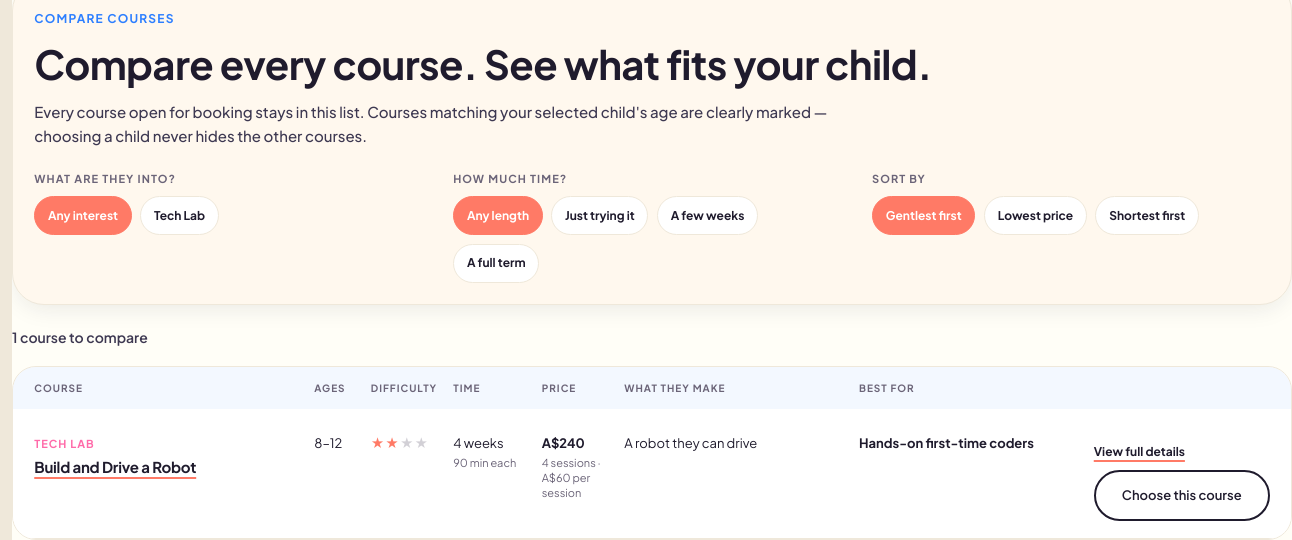
Test case: CoursesPage pay-now CTA › keeps the reserve CTA and fetches classes only when times are opened
(page scrolled)
Click the button "Choose this course".
click(1182, 495)  # box [1094, 470, 1270, 521]
(page scrolled)
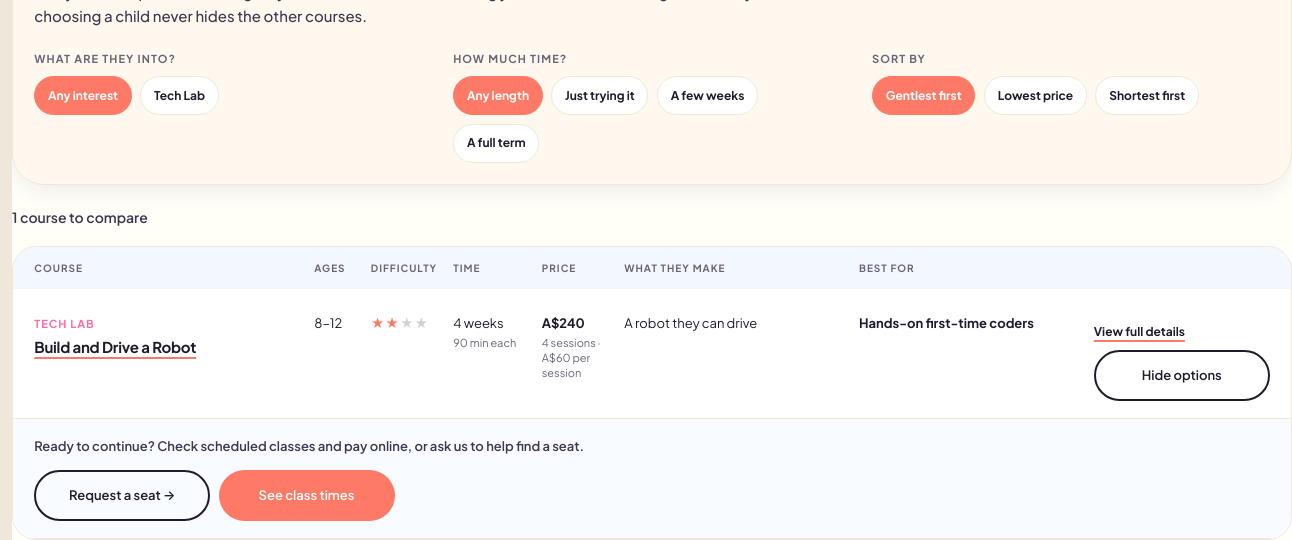
Now the button "Request a seat →" is shown, box [34, 470, 210, 521]
Click the button "See class times".
click(306, 496)  # box [218, 470, 394, 521]
(page scrolled)
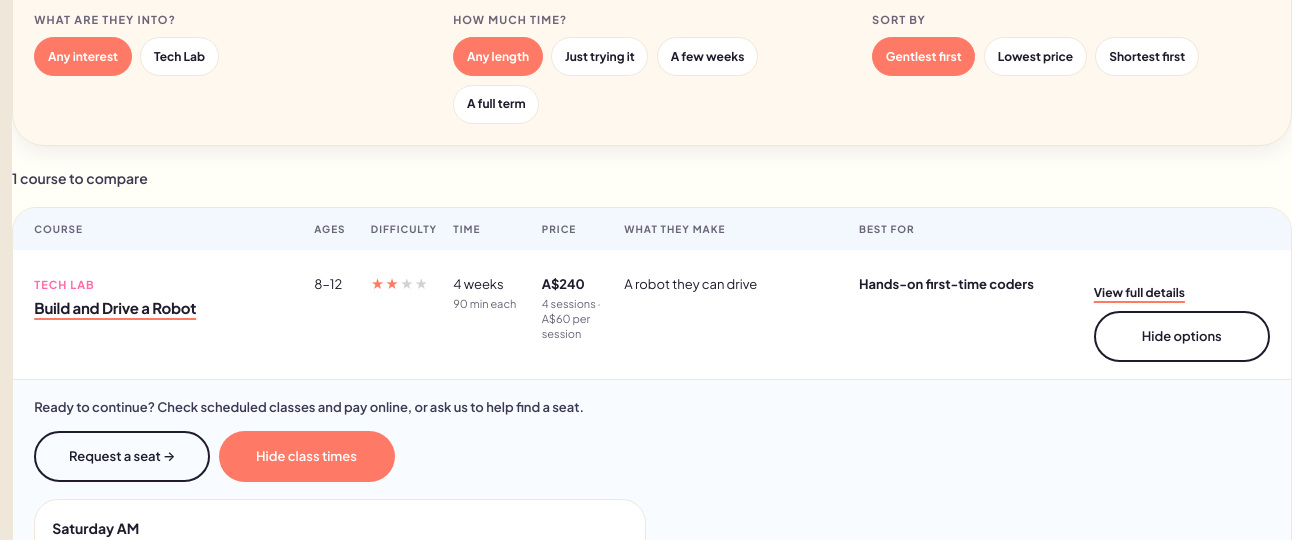
Now the button "Request a seat →" is shown, box [34, 431, 210, 482]
Now the text "Saturday AM" is shown, box [52, 519, 139, 537]
